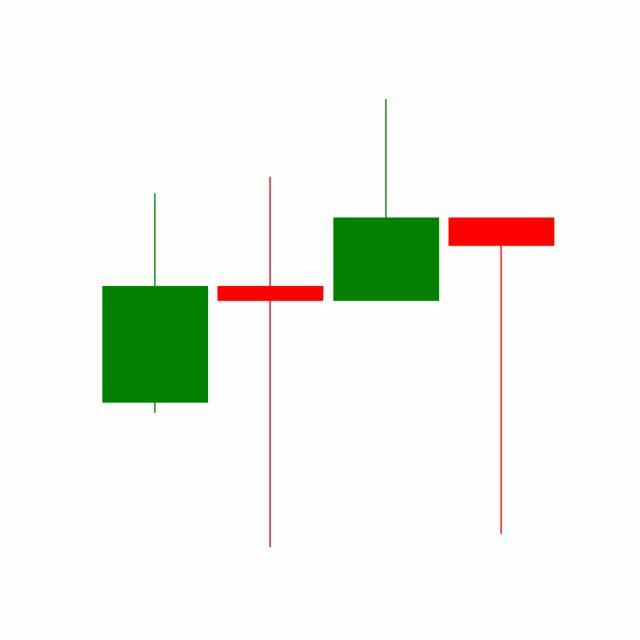Hammer: (444, 214, 560, 537)
